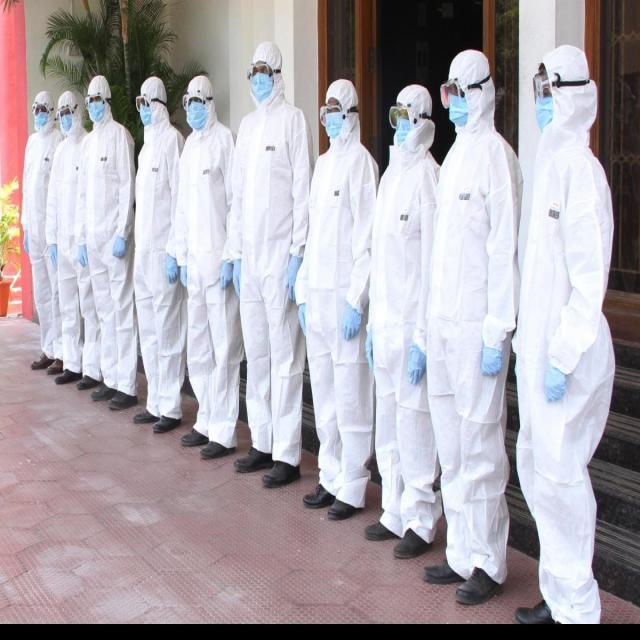Coverall: (503, 32, 634, 631), (431, 18, 533, 580), (291, 3, 382, 499), (358, 44, 447, 506), (169, 44, 265, 471), (111, 47, 208, 460), (235, 29, 308, 530), (79, 52, 161, 418), (52, 51, 98, 378), (20, 49, 63, 386)
Gloves: (527, 359, 578, 434), (265, 272, 316, 330), (323, 284, 371, 343), (399, 335, 440, 399), (485, 329, 519, 402), (217, 240, 258, 290), (151, 253, 196, 298), (352, 318, 381, 377), (113, 209, 134, 284), (74, 237, 97, 272)
Mask: (525, 84, 572, 149), (313, 113, 353, 153), (392, 110, 422, 160), (177, 92, 213, 130), (442, 92, 476, 127), (130, 103, 159, 132), (245, 72, 274, 99), (82, 101, 109, 128), (31, 111, 56, 134), (56, 111, 72, 126)
